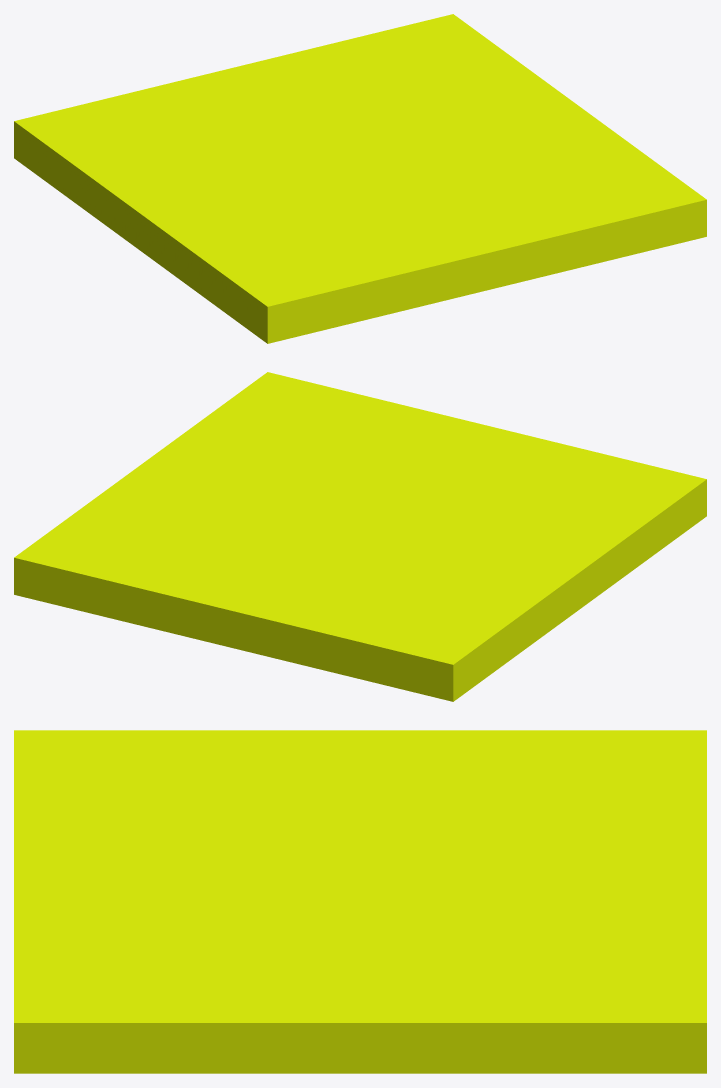
Rendered from Light_2.FBX.
3 views of the same model, one above another, from view 1: azimuth 30°, elevation 25°; view 2: azimuth 150°, elevation 25°; view 3: azimuth 270°, elevation 25° (orthographic). The views are drawn at different scales.
Parts seen in each view (by area): view 1: small lights; view 2: small lights; view 3: small lights.
Boxes of the visible parts, left/top/right/bottom form: small lights: left=14, top=14, right=706, bottom=343; small lights: left=14, top=372, right=706, bottom=701; small lights: left=14, top=730, right=706, bottom=1073.
Size of the model in its own units: 0.3517 by 0.0284 by 0.3517.
